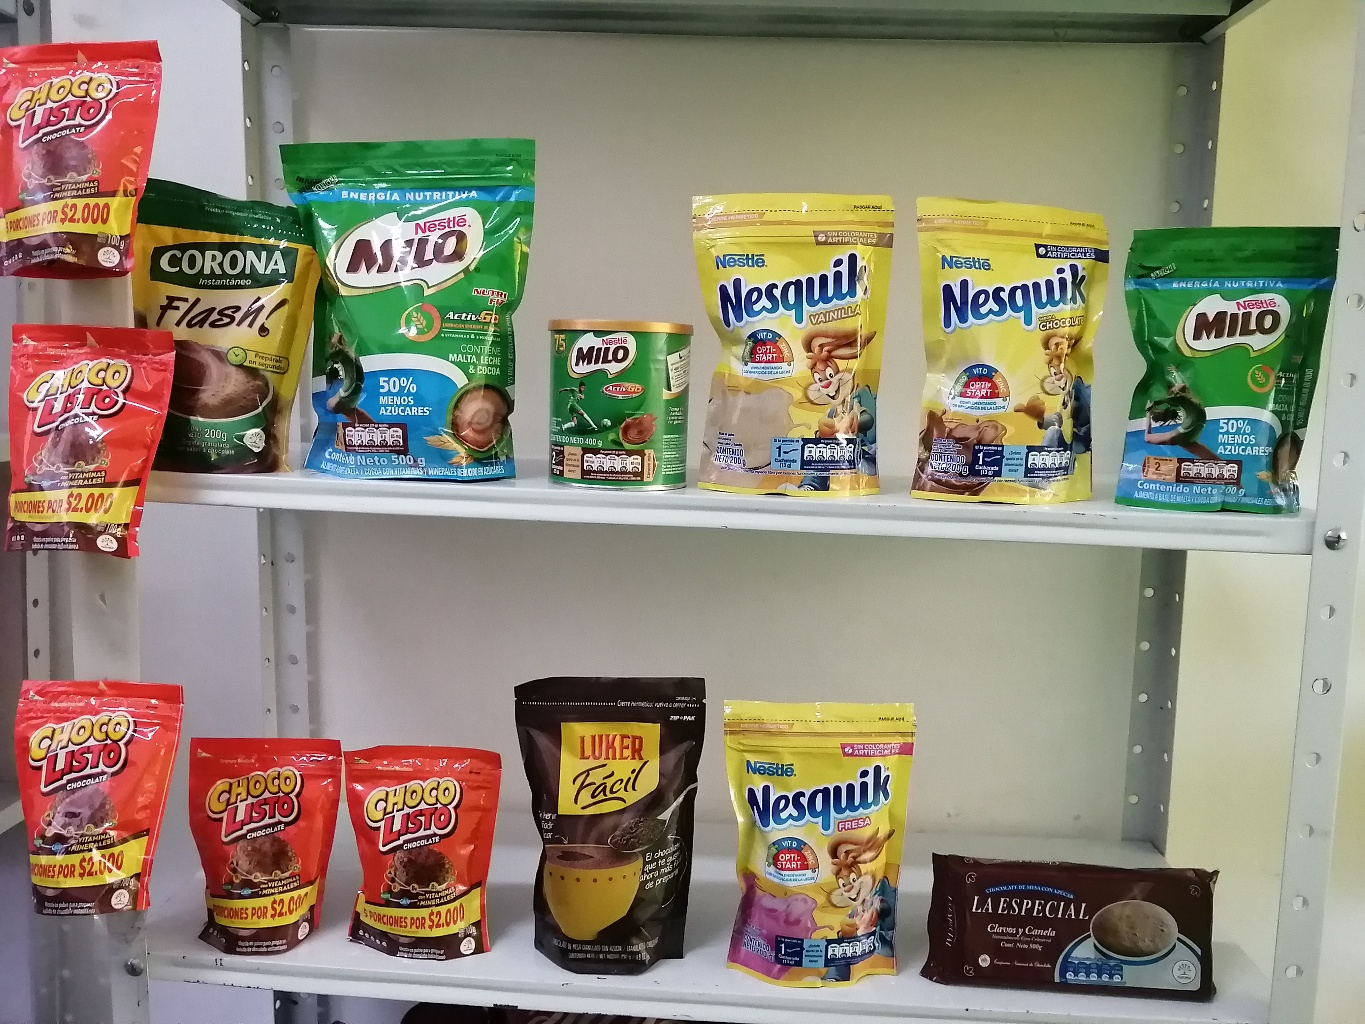COL0170203LAT40000: (540, 305, 700, 501)
COL0170205DYP20000: (1111, 207, 1343, 517)
COL0170205DYP50000: (278, 128, 548, 494)
COL0170303DYP20000: (905, 187, 1118, 499)
COL0170305DYP20000: (719, 694, 914, 989)
COL0170306DYP20000: (685, 183, 911, 500)
